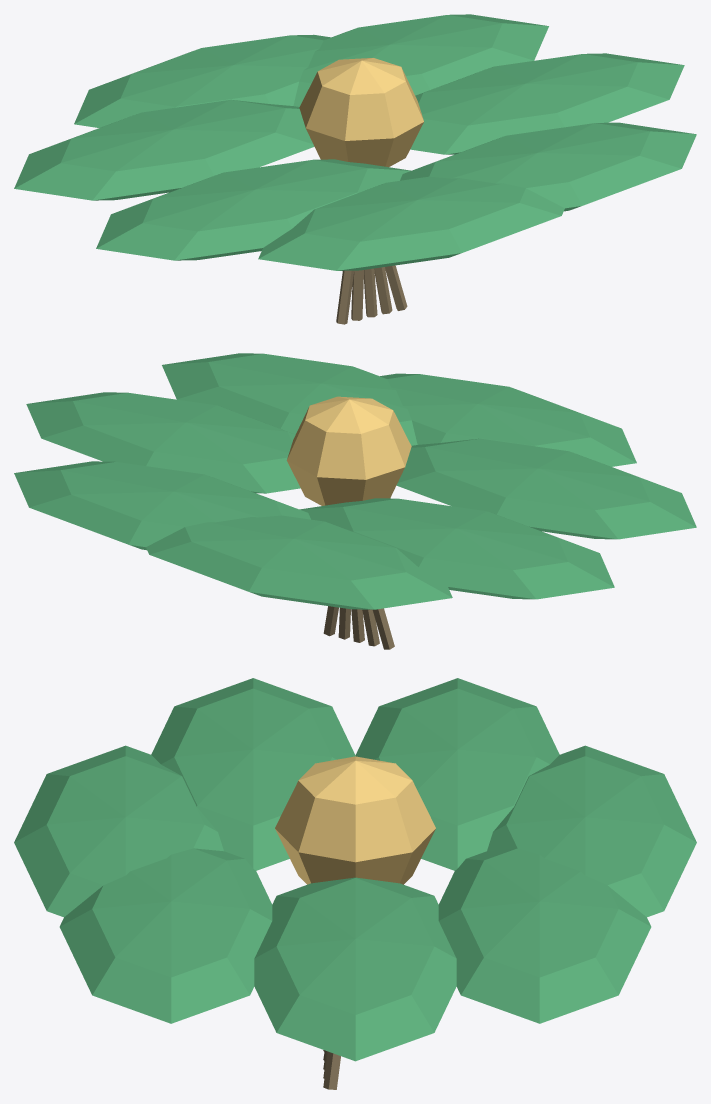
Rendered from AQUA-024.glb.
3 renders of one model, top to bottom at view 1: azimuth 30°, elevation 25°; view 2: azimuth 150°, elevation 25°; view 3: azimuth 270°, elevation 25°, orthographic. The views are drawn at different scales.
Parts seen in each view (by area): view 1: AQUA-024; view 2: AQUA-024; view 3: AQUA-024.
Boxes of the visible parts, x1,y1,x2,y2 form: AQUA-024: (14,14,696,324); AQUA-024: (14,353,696,649); AQUA-024: (14,678,696,1089).
Size of the model in its own units: 1.46 by 0.5528 by 1.1.
